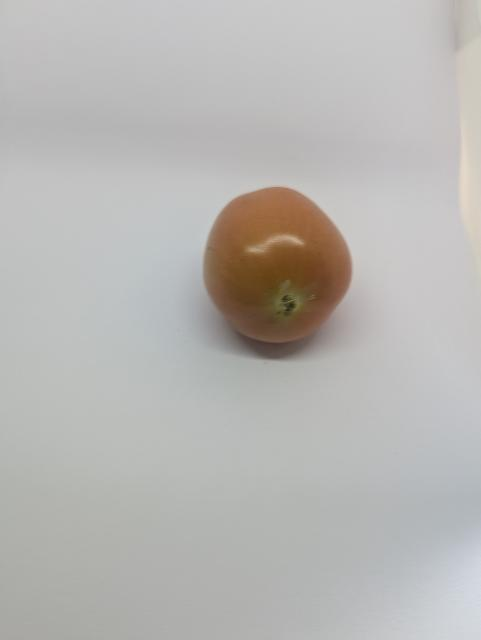turning: (202, 183, 362, 351)
